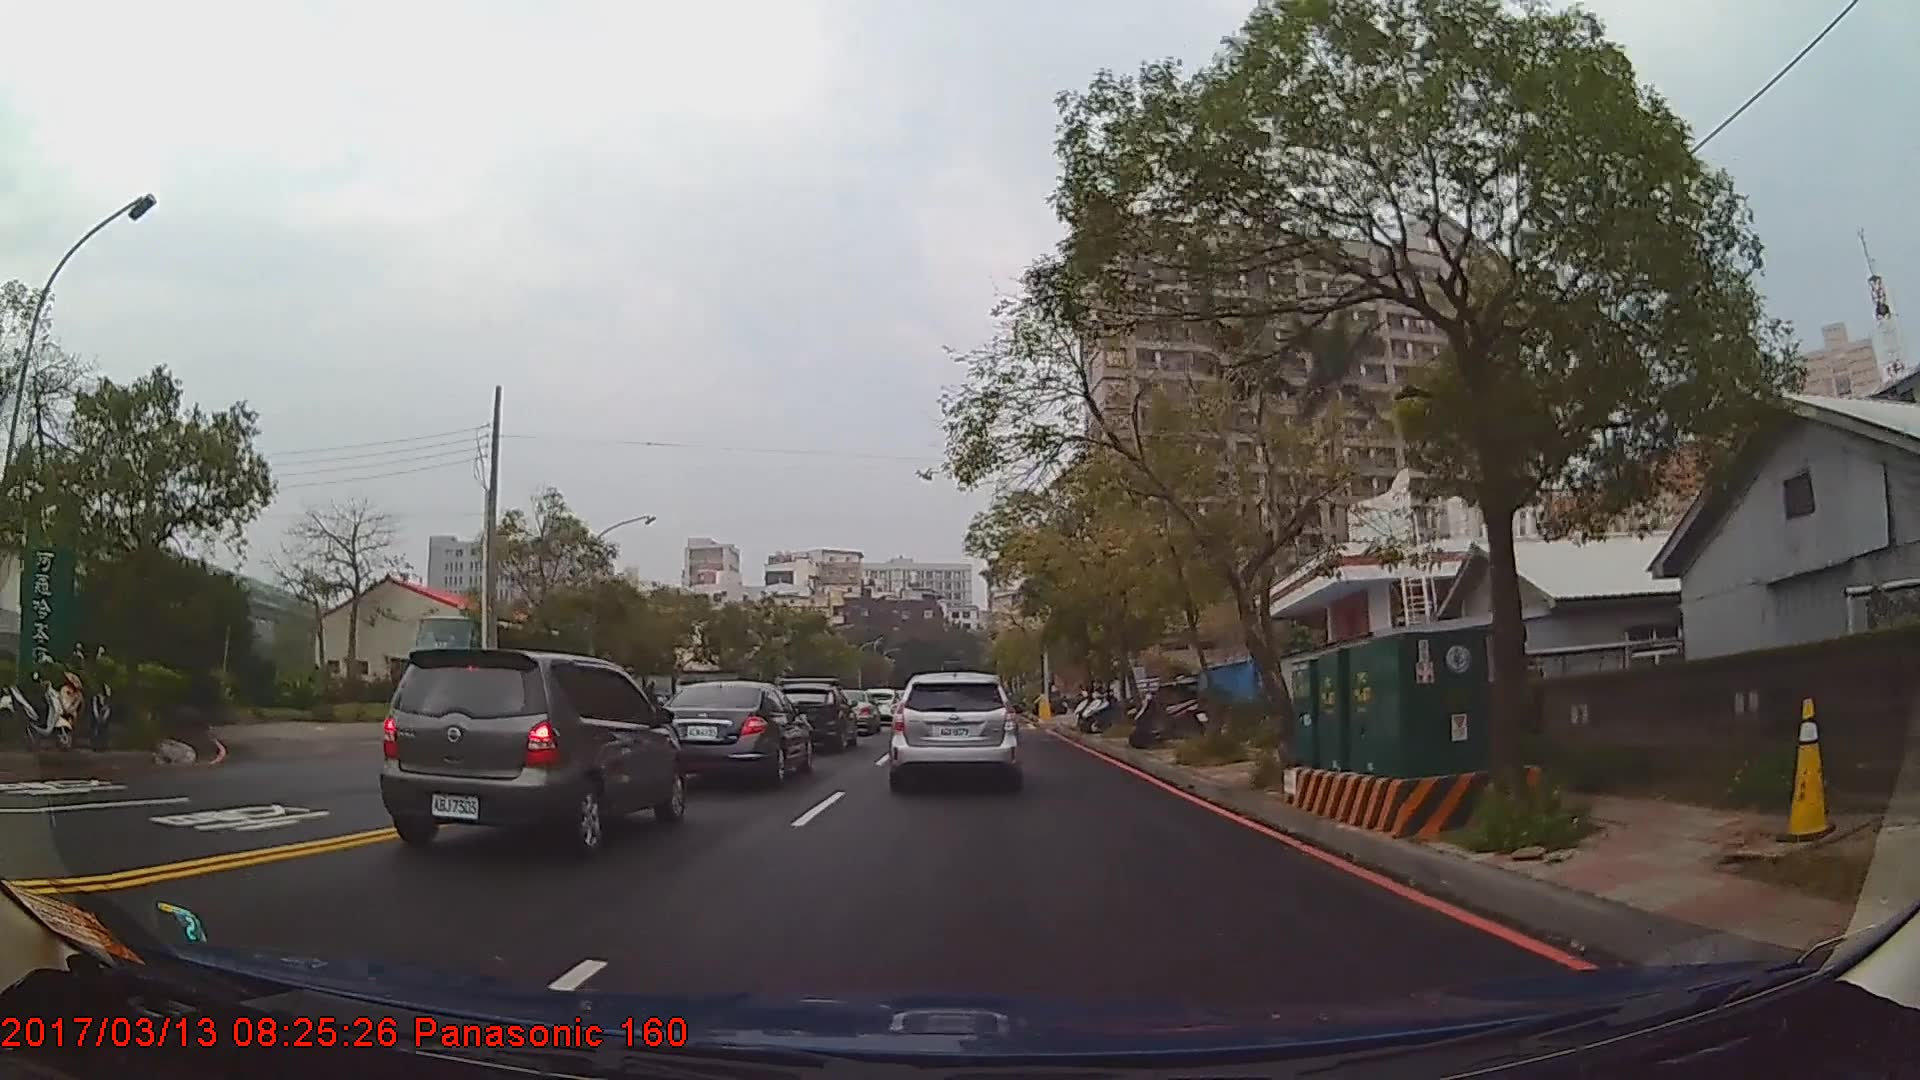vehicle: (377, 646, 687, 858), (651, 679, 814, 783), (887, 673, 1021, 790), (767, 680, 855, 749), (825, 688, 880, 735)
